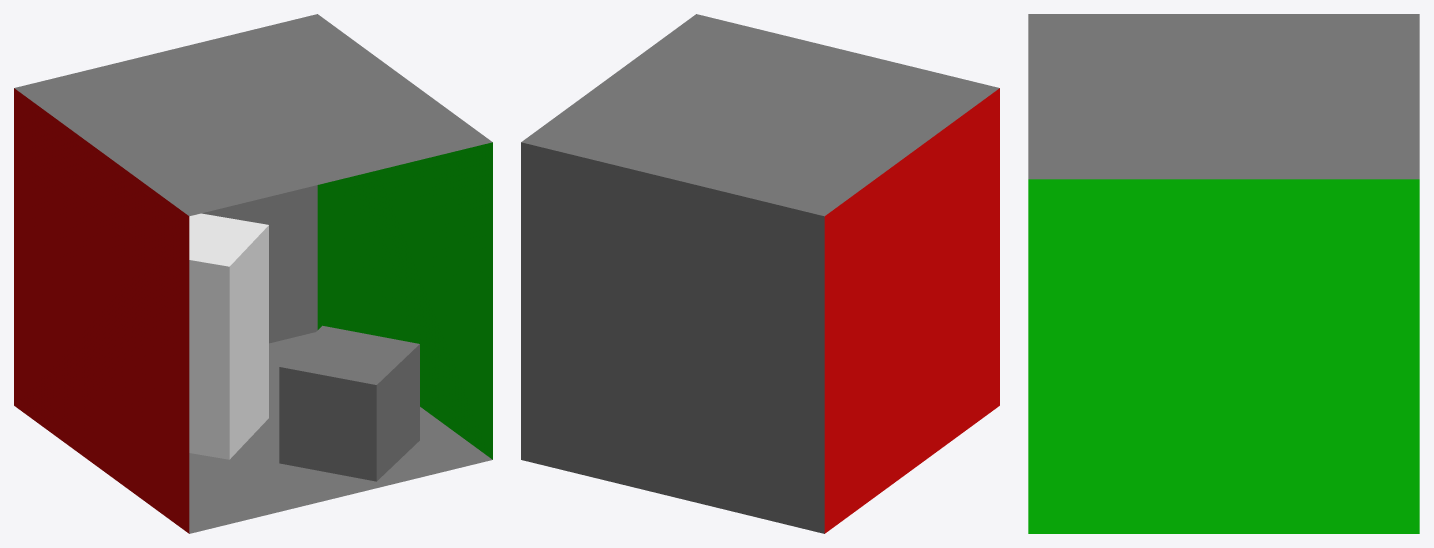
File: cornell_box.obj
The picture shows the model from 3 angles, left to right: view 1: azimuth 30°, elevation 25°; view 2: azimuth 150°, elevation 25°; view 3: azimuth 270°, elevation 25°; orthographic projection. The views are drawn at different scales.
Visible parts, largest first — view 1: box_立方体, small_cube_small_box.001, large_cube_large_box.001; view 2: box_立方体; view 3: box_立方体.
Part boxes in pixels (x1,y1,x2,y2): box_立方体: [14, 14, 492, 533]; small_cube_small_box.001: [279, 325, 419, 481]; large_cube_large_box.001: [189, 213, 268, 459]; box_立方体: [521, 14, 999, 533]; box_立方体: [1028, 14, 1419, 533].
Bounding box in the file's own units: 2 × 2 × 2.
